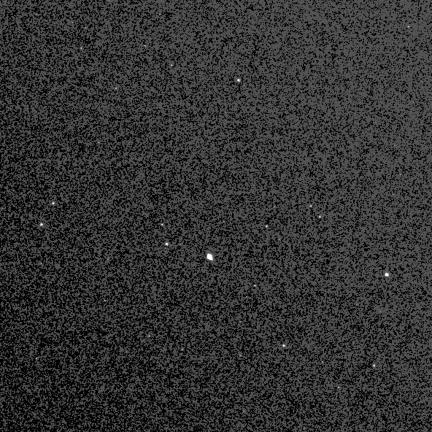blob: (207, 254, 214, 261), (40, 223, 44, 227), (265, 225, 269, 228), (165, 243, 169, 246), (238, 79, 241, 83), (373, 365, 376, 368), (385, 273, 388, 276), (283, 345, 286, 348), (52, 202, 55, 205), (319, 216, 322, 219), (310, 206, 313, 208)
